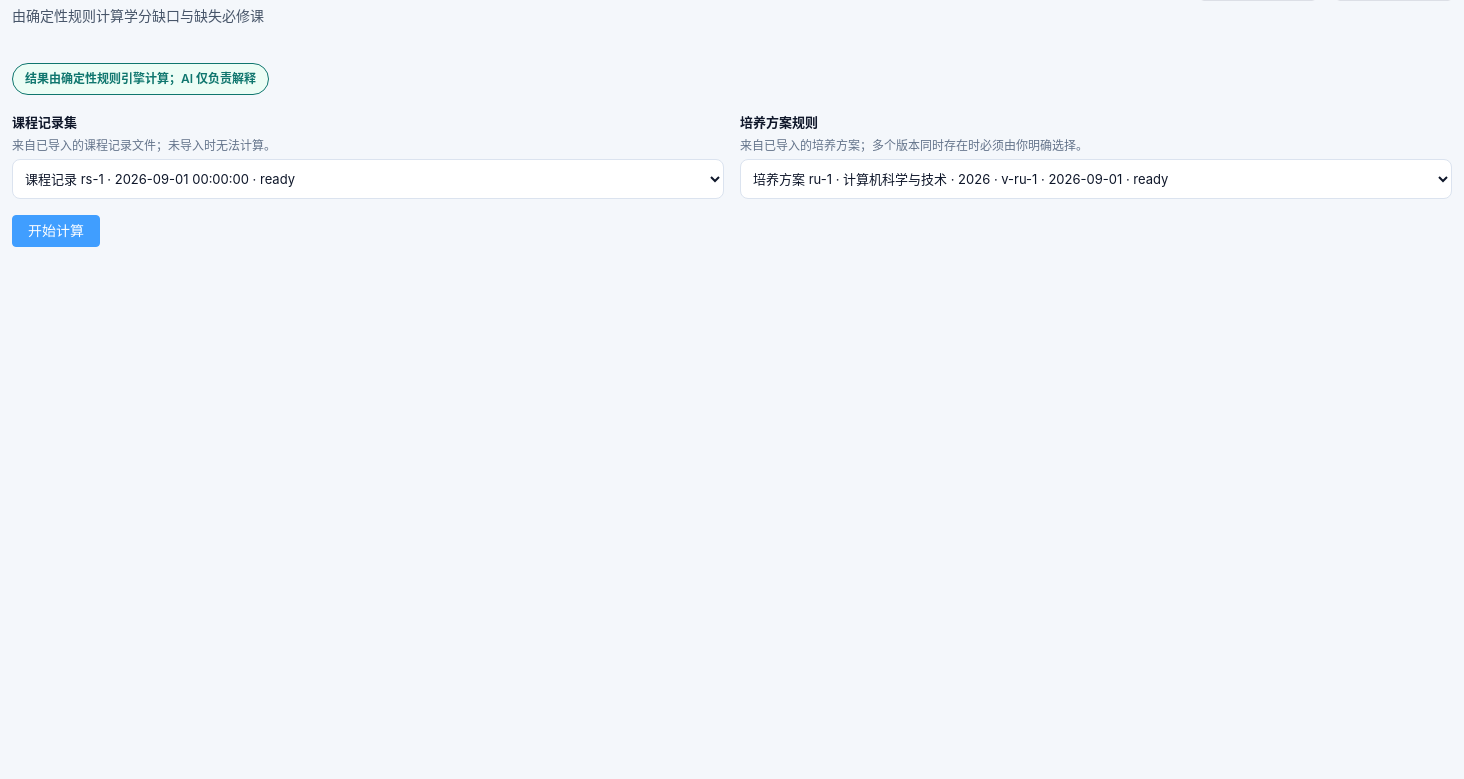
it: PlanningView calculation › shows the four credit cards, gaps, missing courses, warnings and evidence
Click the button "开始计算": {"x": 56, "y": 231} [12, 215, 100, 247]
(page scrolled)
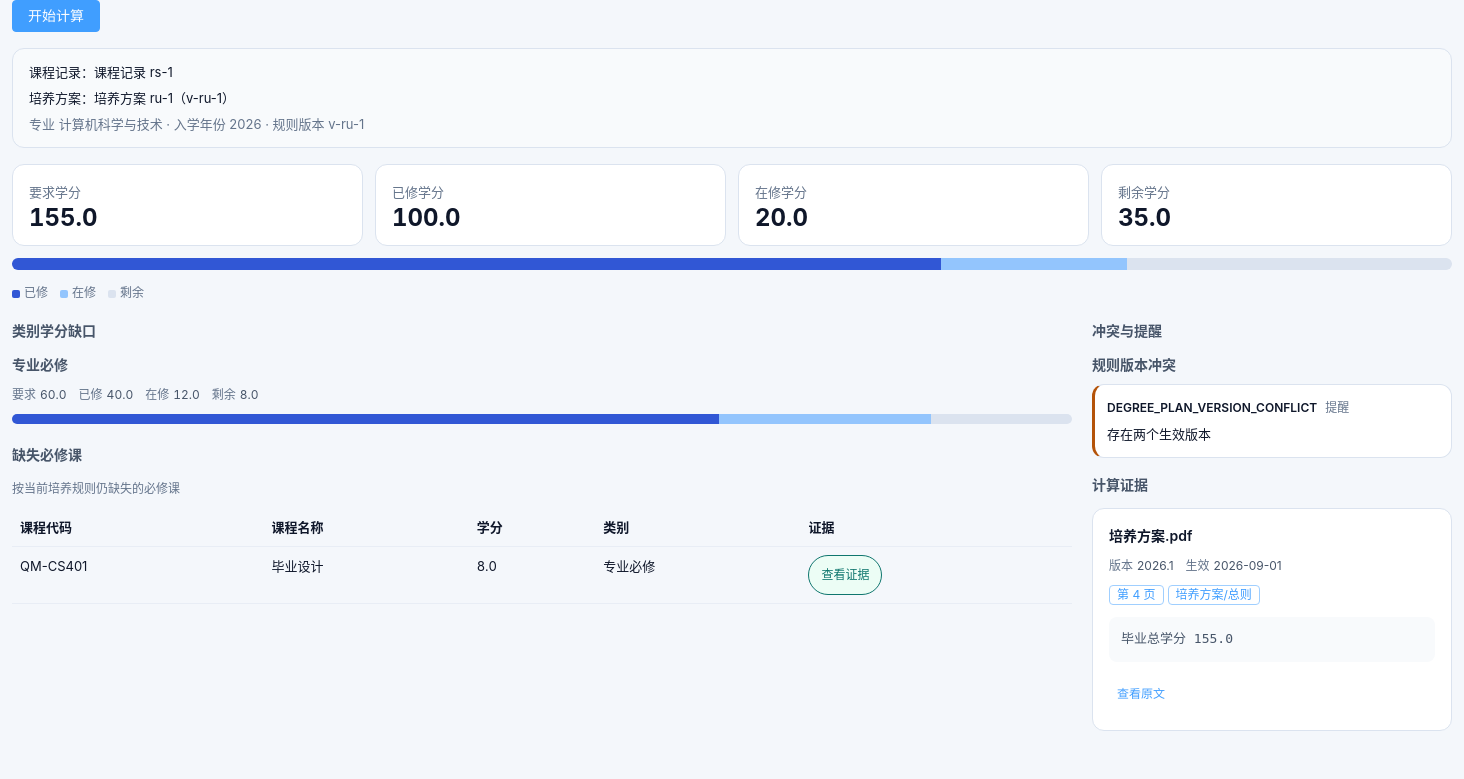
Result: the element with class "ep-credit-summary" is shown at [12, 164, 1452, 304]
Result: the list item with class "ep-gap-item" shows "专业必修" at [12, 356, 68, 373]
Result: the row with class "ep-missing__row" shows "QM-CS401" at [20, 558, 87, 574]
